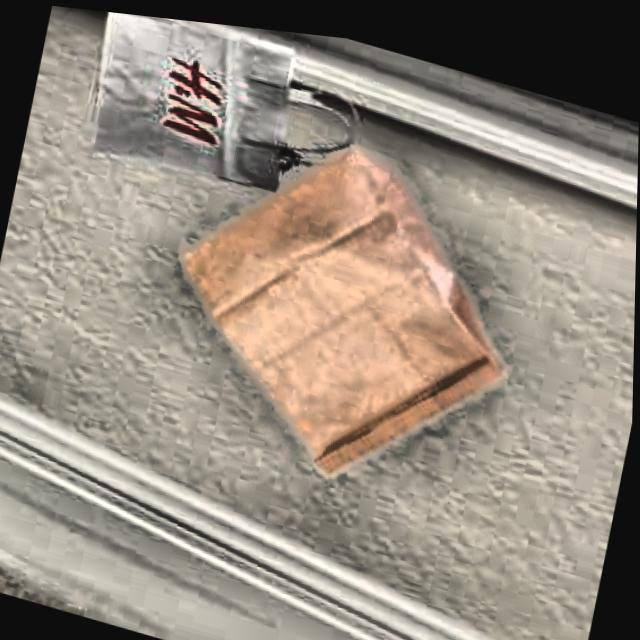Paper-bag: (138, 93, 549, 538), (63, 6, 382, 234)
